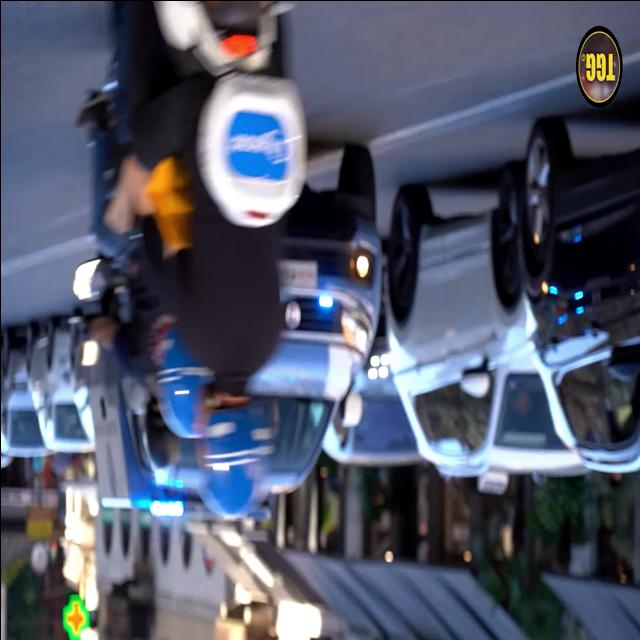emergency-vehicles: (72, 146, 408, 530)
